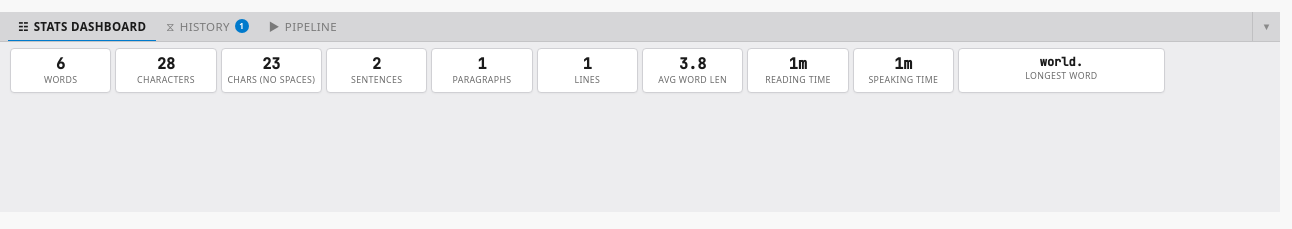
Test: BottomPanel › shows time formatting for older entries
Click the button "⧖ History 1": (208, 26) [156,12,259,41]
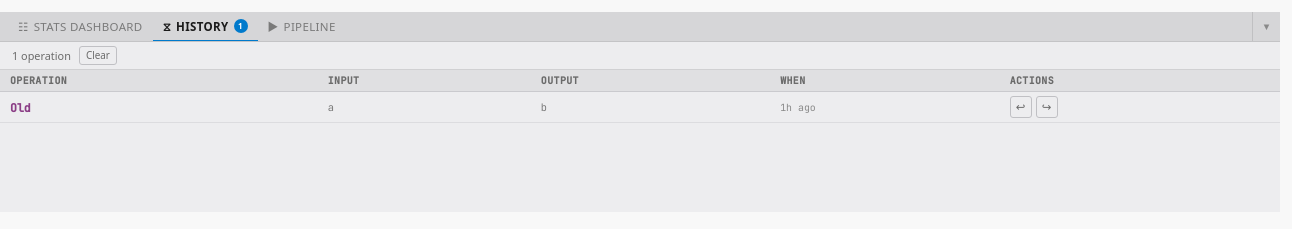
Check: the text "1h ago" is shown, box [770,91,1000,123]
